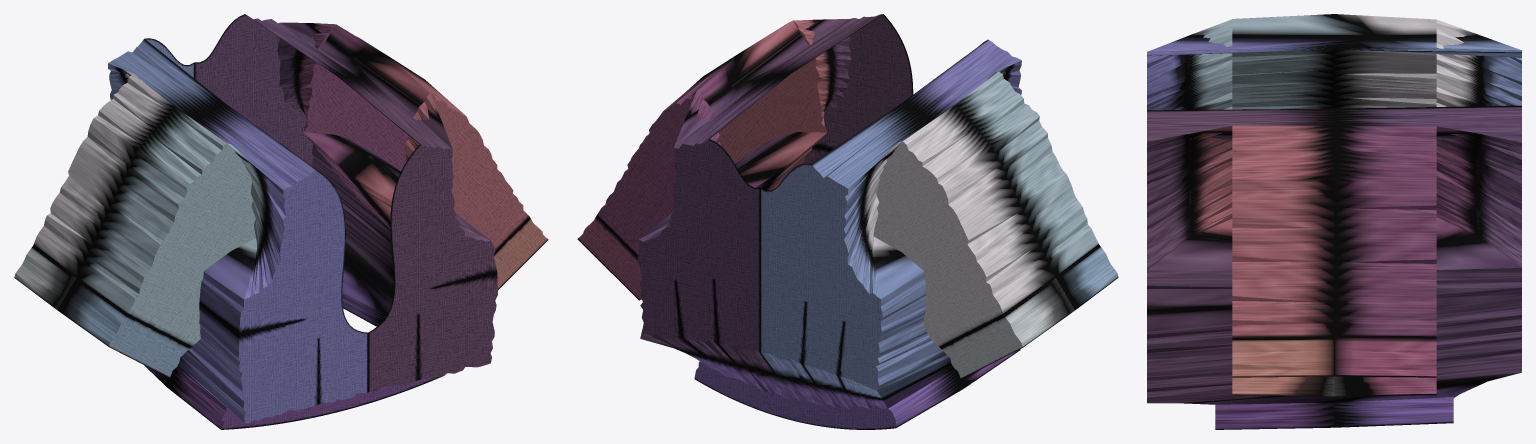
Rendered from generated_rand_2M8H83CQJP_boxmesh.obj.
The picture shows the model from 3 angles, left to right: view 1: azimuth 30°, elevation 25°; view 2: azimuth 150°, elevation 25°; view 3: azimuth 270°, elevation 25°; orthographic projection. The views are drawn at different scales.
Bounding box in the file's own units: 82.13 × 52.01 × 55.
Materials: 1 (1 with a texture image).
